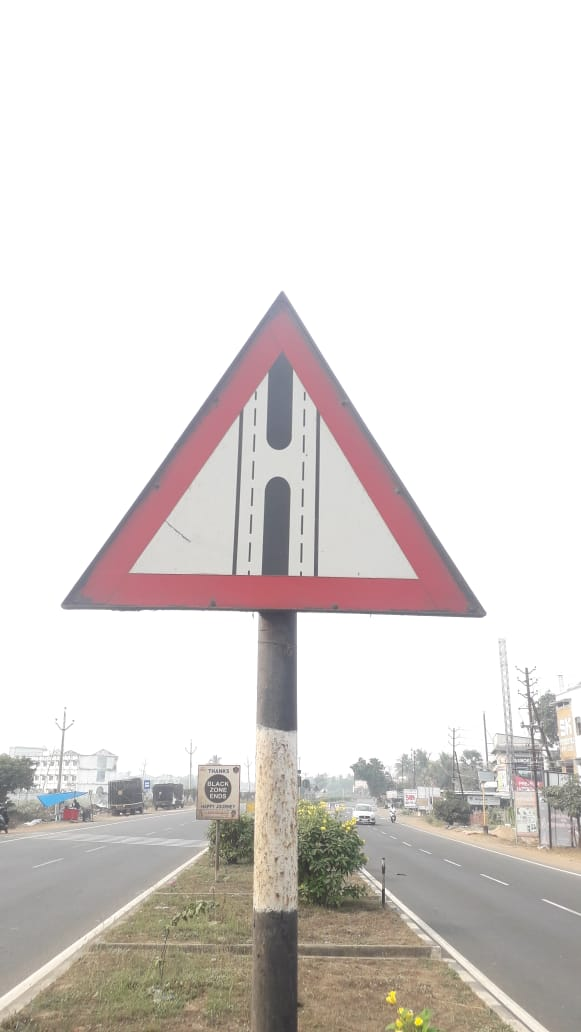highway go straight: (27, 279, 542, 669)
